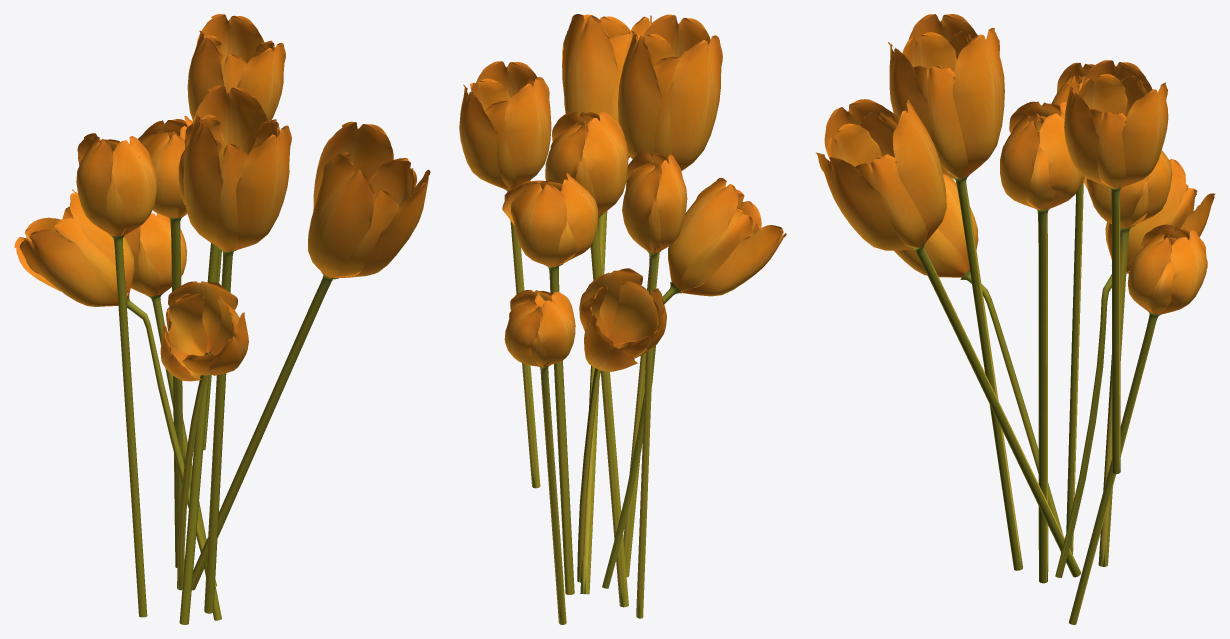
Rendered from RamoTulipanesNaranjas.fbx.
3 renders of one model, left to right at view 1: azimuth 30°, elevation 25°; view 2: azimuth 150°, elevation 25°; view 3: azimuth 270°, elevation 25°, orthographic. The views are drawn at different scales.
Visible parts, largest first — view 1: TulipanesNaranjas; view 2: TulipanesNaranjas; view 3: TulipanesNaranjas.
Part boxes in pixels (left/top/right/bottom): TulipanesNaranjas: left=14, top=14, right=430, bottom=624; TulipanesNaranjas: left=459, top=14, right=786, bottom=624; TulipanesNaranjas: left=816, top=14, right=1215, bottom=624.
Bounding box in the file's own units: 0.1391 × 0.1921 × 0.3051.
2 materials, 2 textured.
